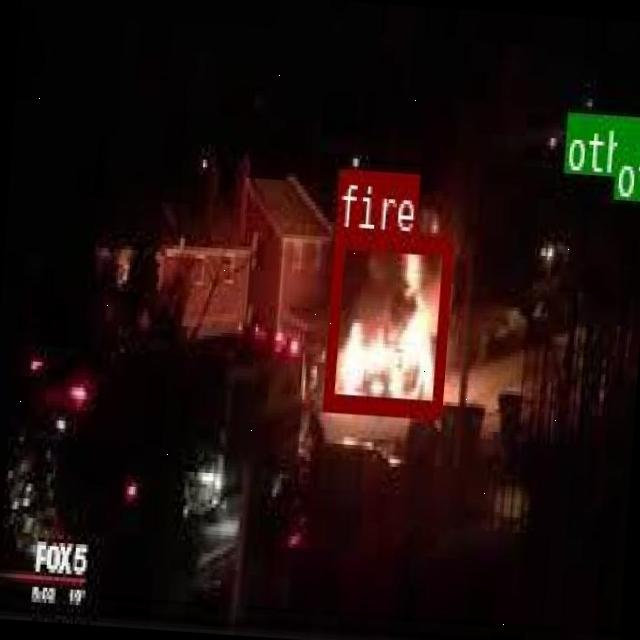fire: (321, 228, 452, 414)
